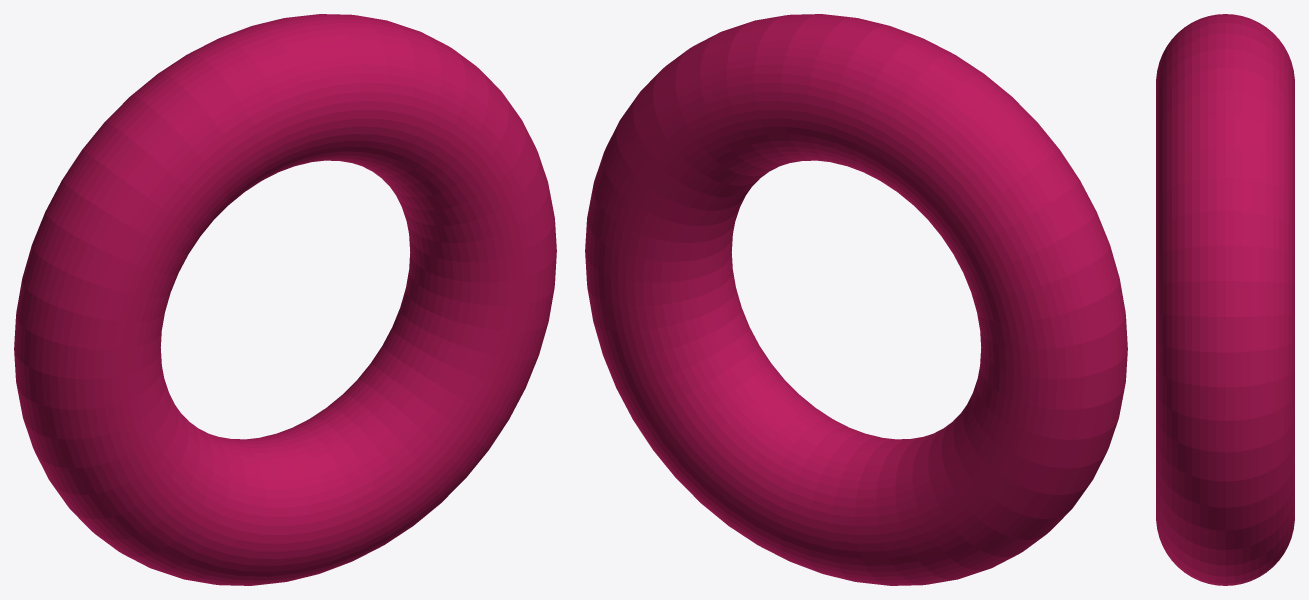
3 views of the same model, side by side, from view 1: azimuth 30°, elevation 25°; view 2: azimuth 150°, elevation 25°; view 3: azimuth 270°, elevation 25° (orthographic). The views are drawn at different scales.
Parts seen in each view (by area): view 1: world; view 2: world; view 3: world.
Part boxes in pixels (x1,y1,x2,y2): world: (14,14,556,585); world: (585,14,1127,585); world: (1156,14,1294,585).
Bounding box in the file's own units: 37.87 × 37.79 × 9.18.
